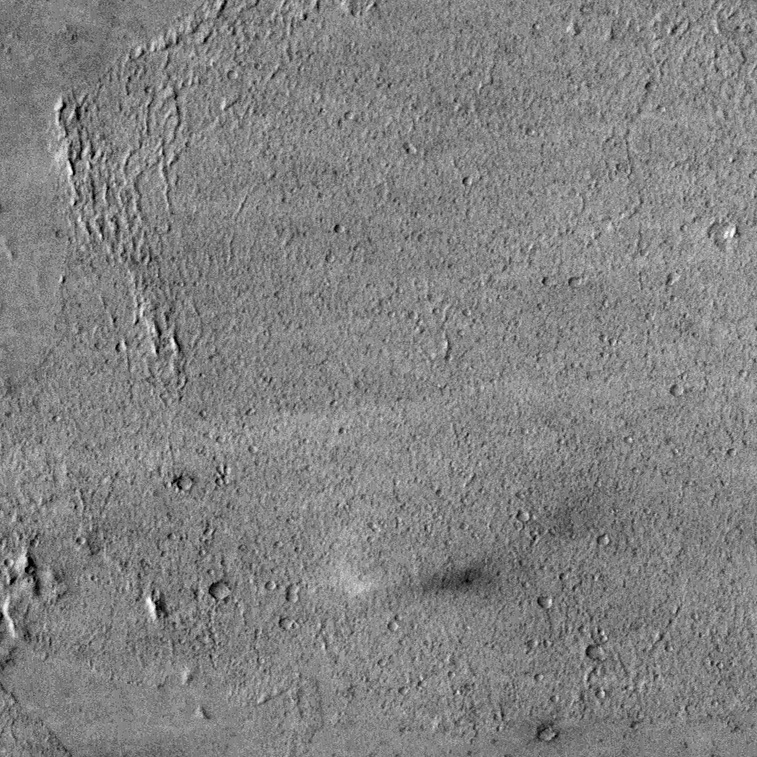dust_devil: (332, 557, 499, 599)
